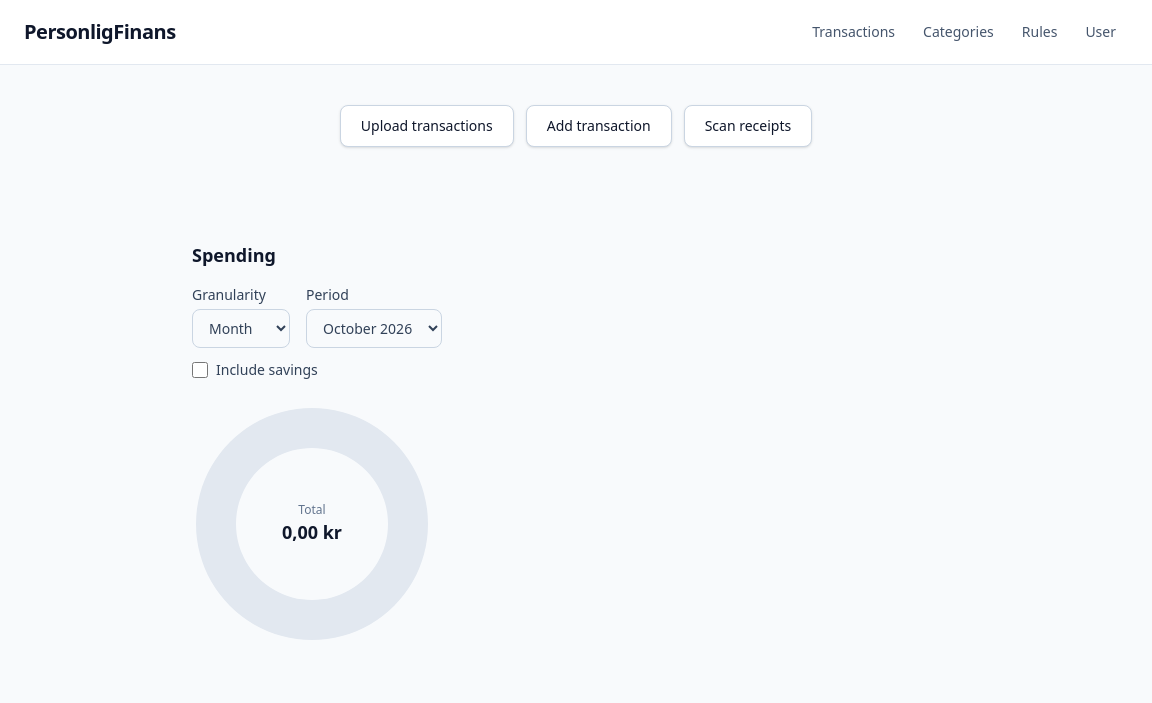
Test: App › opens the modal with empty fields and no category chosen
Expected: the navigation bar is shown, top-left (800, 16), bottom-right (1128, 48)
What coordinates should you click on to do the following:
click the button "Add transaction"
I would click on:
 (599, 126)
Its box is top-left (526, 105), bottom-right (672, 147).
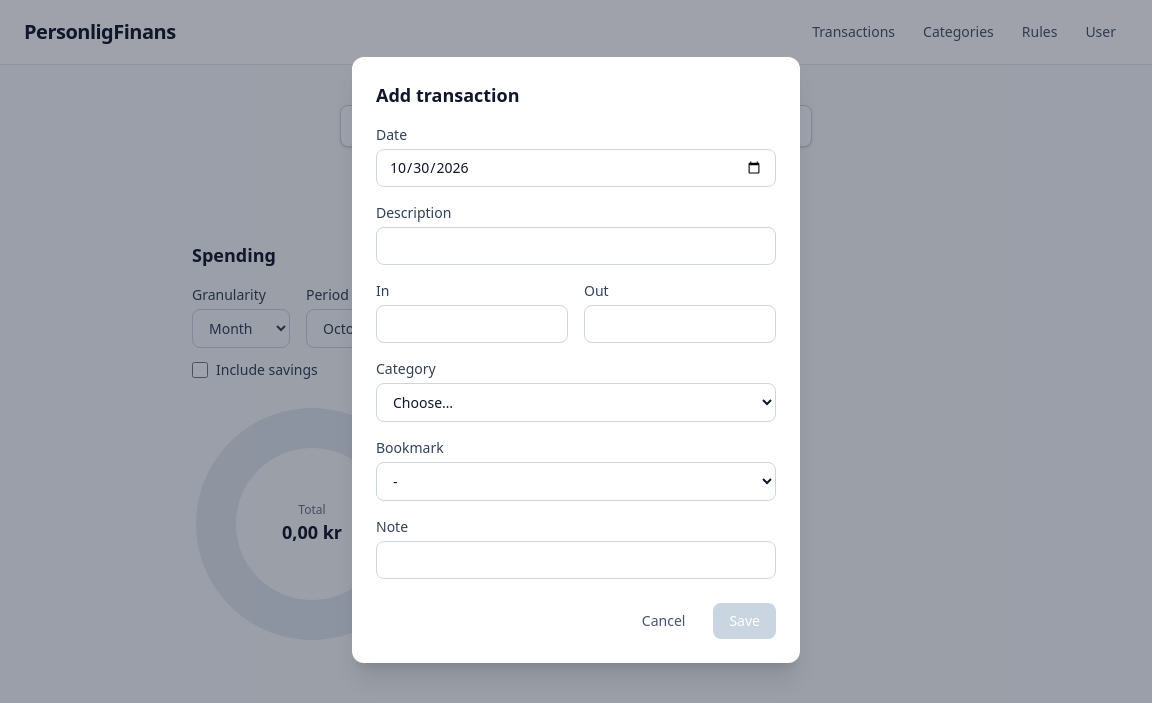
Expected: the dialog is shown, top-left (352, 57), bottom-right (800, 663)
Expected: the date field labelled "Date" holds "2026-10-30", top-left (376, 149), bottom-right (776, 187)
Expected: the number field labelled "In" is not empty, top-left (376, 305), bottom-right (568, 343)
